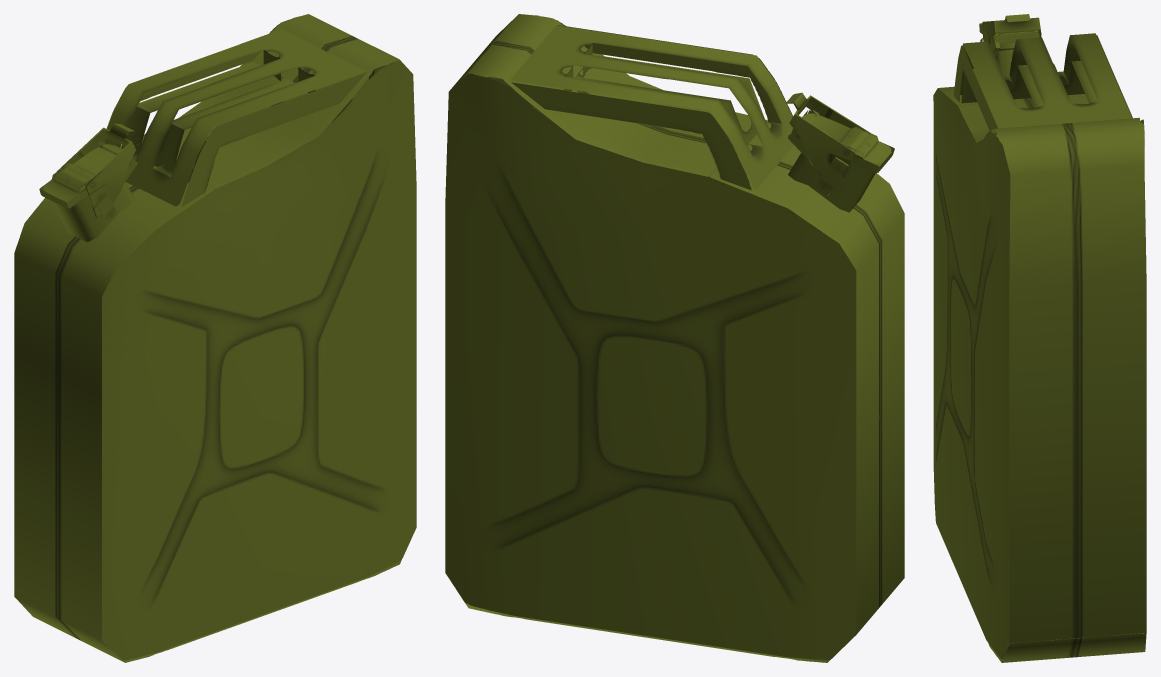
File: Strategy.obj
3 renders of one model, left to right at view 1: azimuth 30°, elevation 25°; view 2: azimuth 150°, elevation 25°; view 3: azimuth 270°, elevation 25°, orthographic. The views are drawn at different scales.
Visible parts, largest first — view 1: Strategy; view 2: Strategy; view 3: Strategy.
Boxes of the visible parts, <box> form: Strategy: <box>14,14,416,662</box>; Strategy: <box>445,14,904,662</box>; Strategy: <box>933,14,1146,662</box>.
Bounding box in the file's own units: 6.53 × 8.47 × 3.15.
